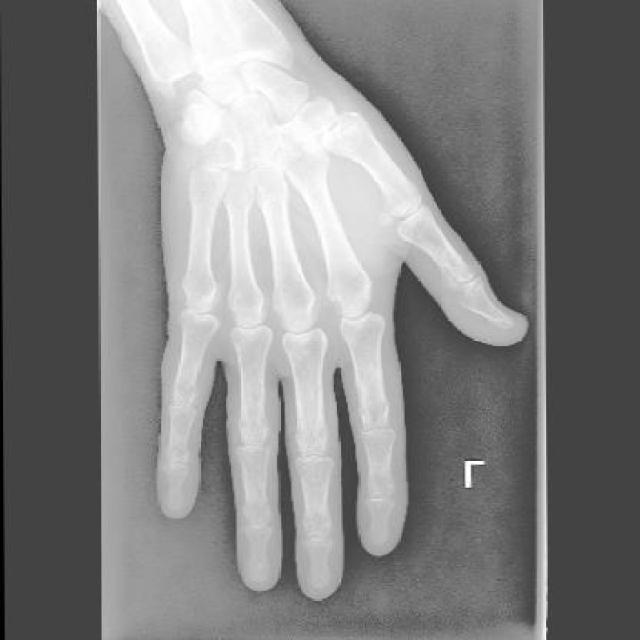Fracture: (317, 109, 365, 162)
